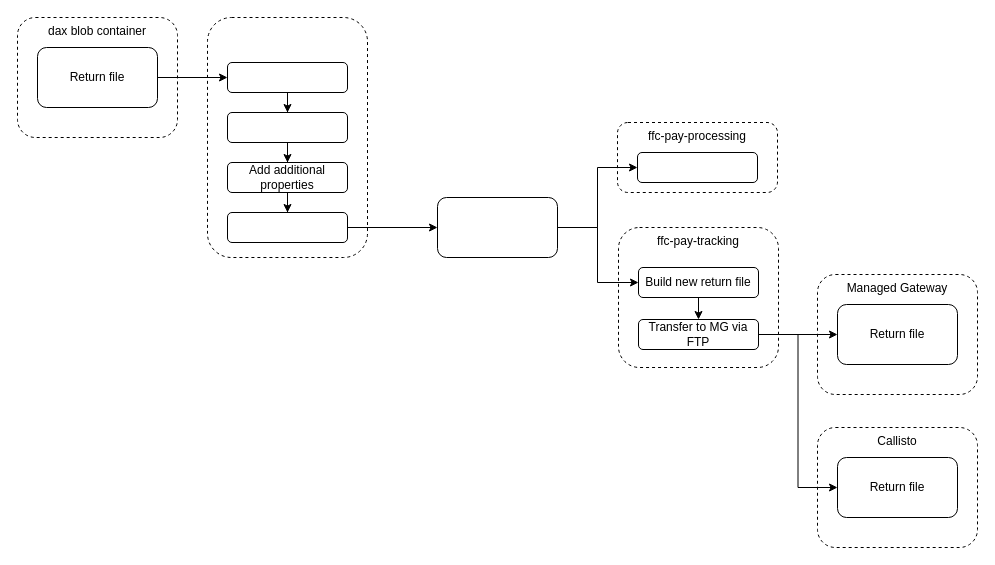
Image size: 995x565. Some labels were removed from this diagram. Here are the shapes that lost their labels. From the top down, the box of each, then its label:
(226, 62, 348, 92): Add source system
(226, 112, 348, 142): Convert value to pence
(206, 16, 368, 258): ffc-pay-responses
(636, 152, 758, 182): Update settlement status
(226, 212, 348, 242): Publish message
(436, 196, 558, 258): ffc-pay-return topic
